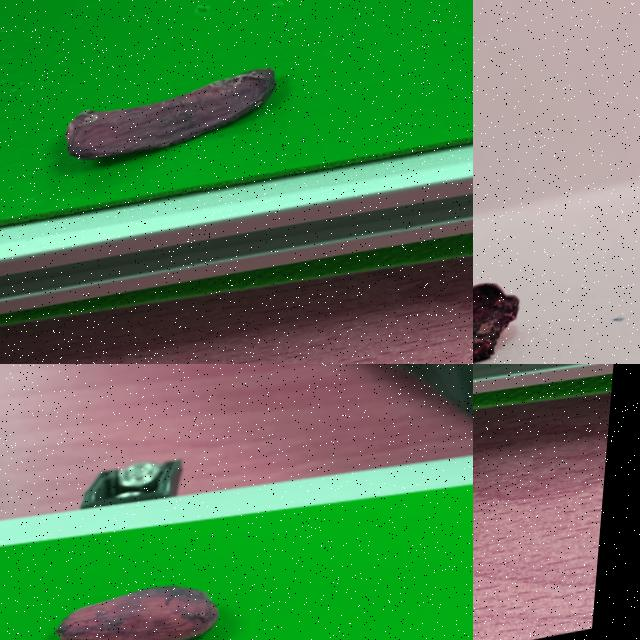Fine_cocoabeans: (0, 525, 316, 639)
Flat_cocoabeans: (22, 31, 379, 212), (473, 237, 617, 363)
